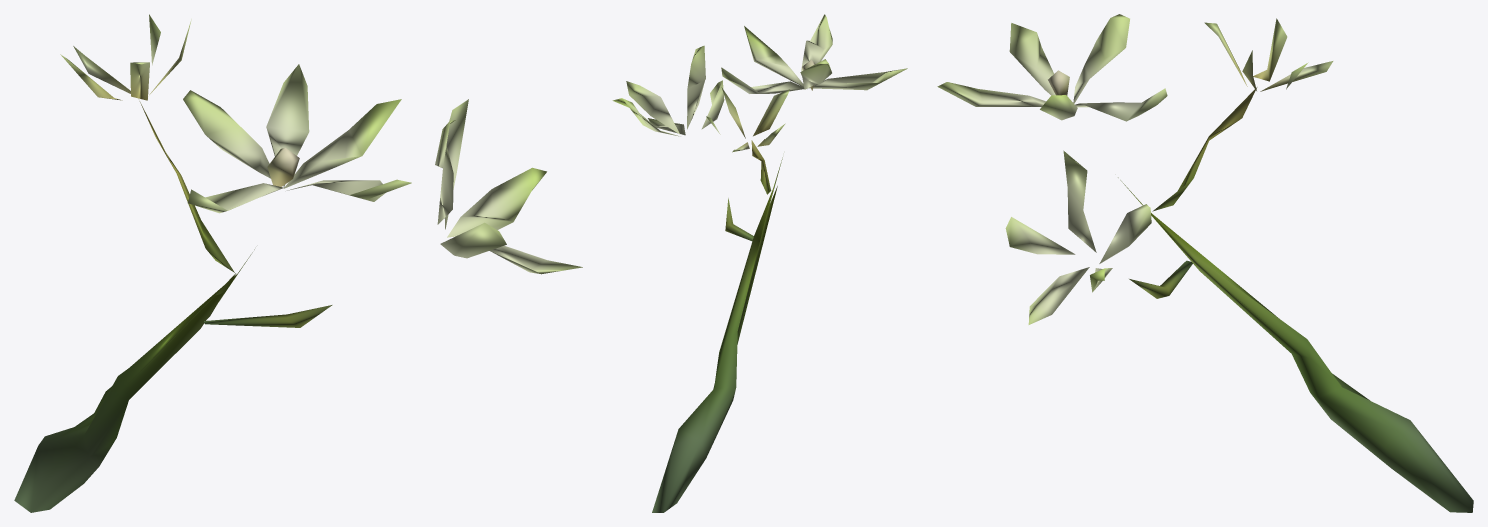
3 renders of one model, left to right at view 1: azimuth 30°, elevation 25°; view 2: azimuth 150°, elevation 25°; view 3: azimuth 270°, elevation 25°, orthographic. The views are drawn at different scales.
Visible parts, largest first — view 1: LOD 4_66885528158422731_bb9398364d468ec489d5e3c54dd32286; view 2: LOD 4_66885528158422731_bb9398364d468ec489d5e3c54dd32286; view 3: LOD 4_66885528158422731_bb9398364d468ec489d5e3c54dd32286.
Part boxes in pixels (x1=…): LOD 4_66885528158422731_bb9398364d468ec489d5e3c54dd32286: x1=14, y1=14, x2=582, y2=512; LOD 4_66885528158422731_bb9398364d468ec489d5e3c54dd32286: x1=612, y1=14, x2=907, y2=512; LOD 4_66885528158422731_bb9398364d468ec489d5e3c54dd32286: x1=937, y1=14, x2=1473, y2=512.
Size of the model in its own units: 7.97 by 10.55 by 10.85.
